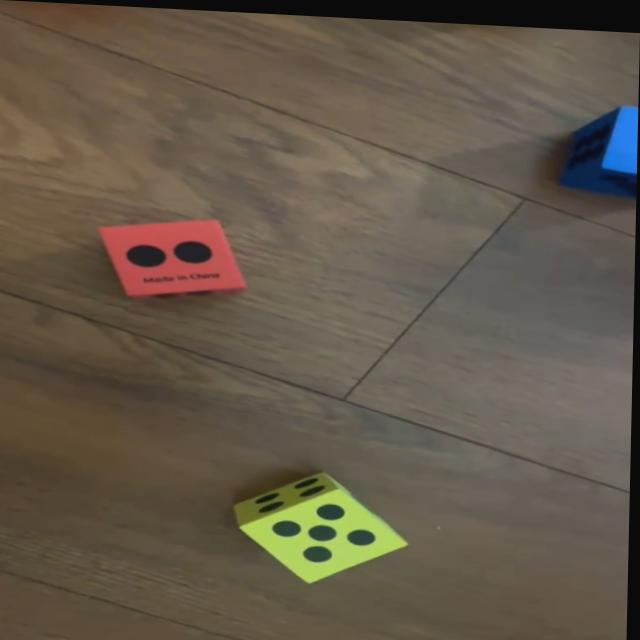blue_block: (563, 96, 638, 188)
red_block: (100, 213, 245, 303)
